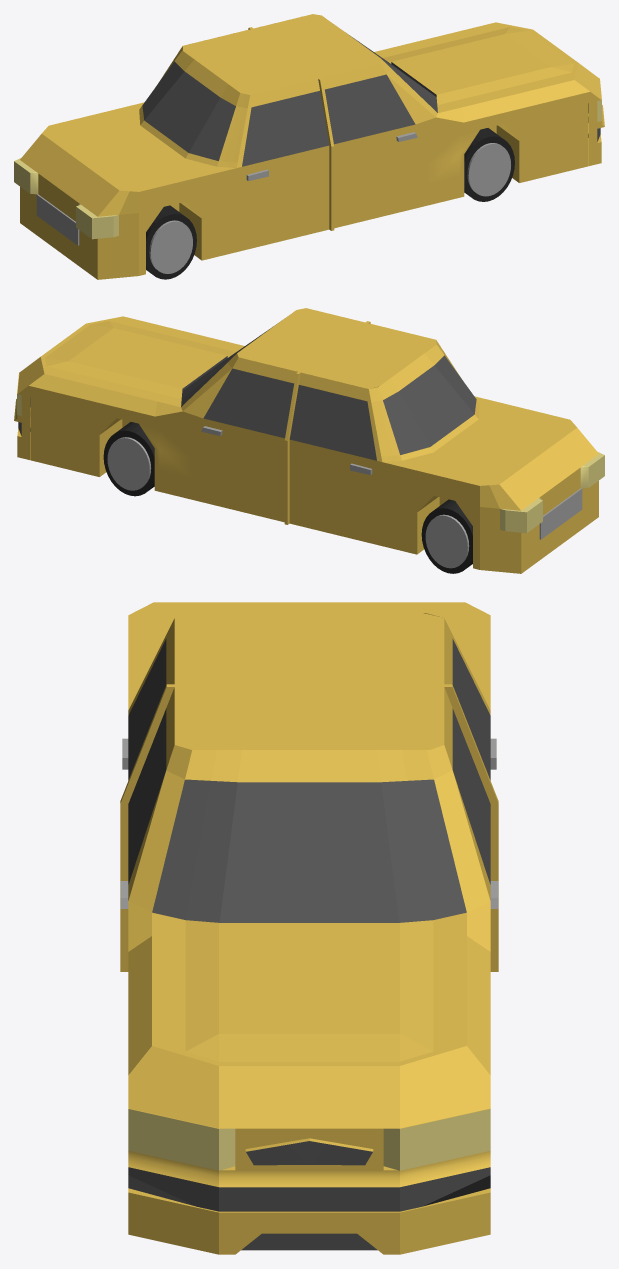
The model's file is Car_3.fbx.
The picture shows the model from 3 angles, top to bottom: view 1: azimuth 30°, elevation 25°; view 2: azimuth 150°, elevation 25°; view 3: azimuth 270°, elevation 25°; orthographic projection. The views are drawn at different scales.
Parts seen in each view (by area): view 1: Base_Car_3, Cylinder_3.3, Cylinder_3.4; view 2: Base_Car_3, Cylinder_3.1, Cylinder_3.2; view 3: Base_Car_3.
Boxes of the visible parts, x1,y1,x2,y2 form: Base_Car_3: [14, 14, 604, 279]; Cylinder_3.3: [464, 128, 514, 201]; Cylinder_3.4: [146, 205, 196, 279]; Base_Car_3: [14, 308, 604, 573]; Cylinder_3.1: [103, 422, 154, 496]; Cylinder_3.2: [421, 499, 472, 573]; Base_Car_3: [120, 602, 498, 1254].
Bounding box in the file's own units: 3771 × 1067 × 1171.
